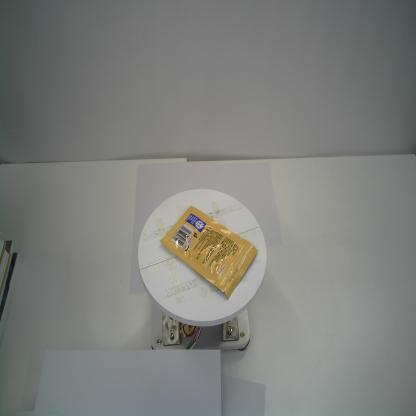Seasoner: (159, 203, 258, 300)
